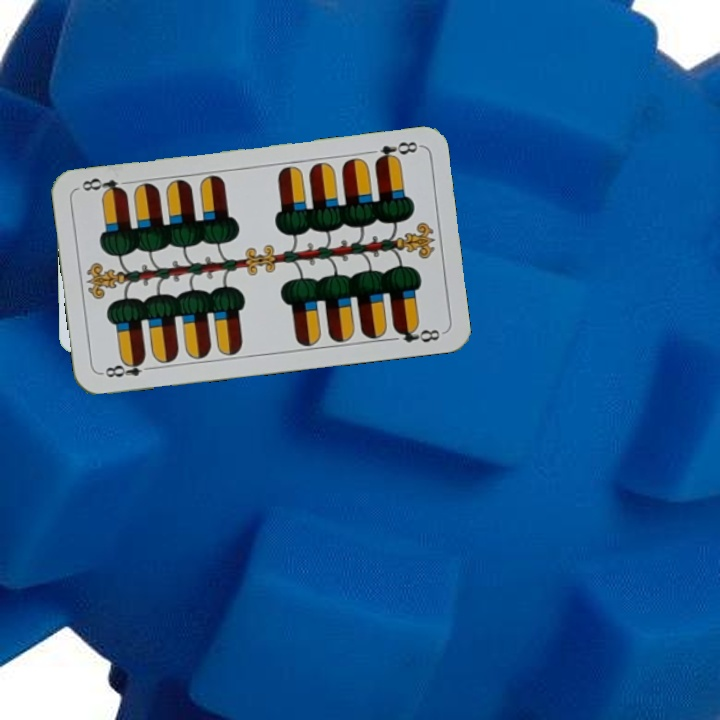E8: (98, 354, 157, 380), (370, 137, 422, 166)
